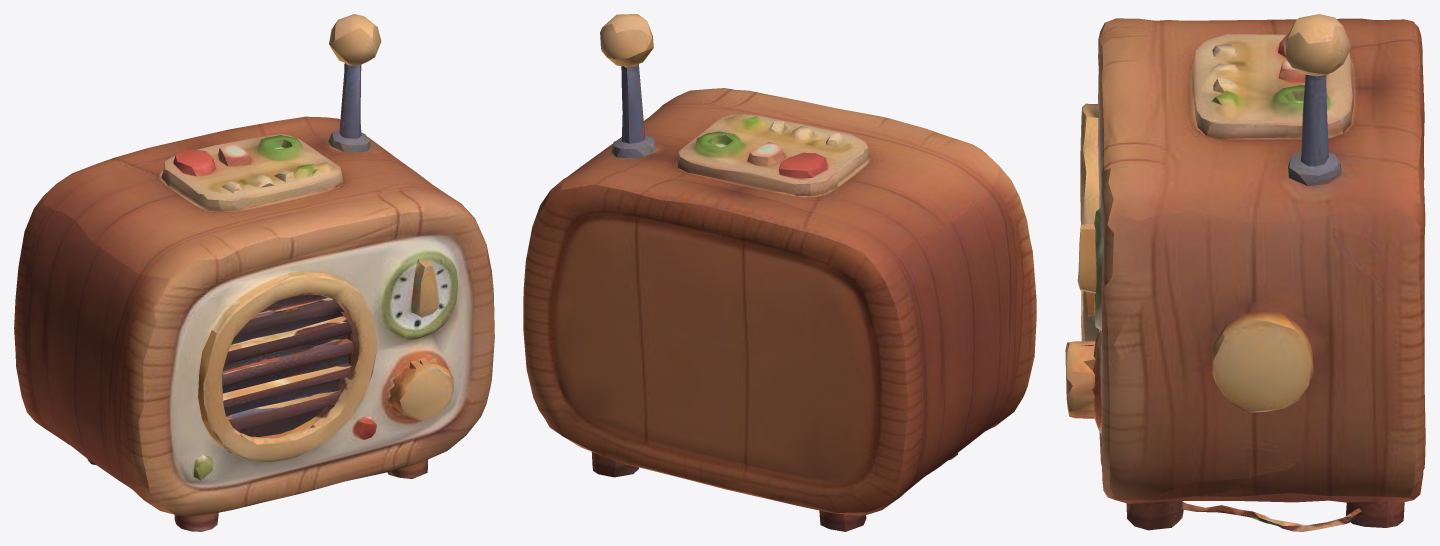
The model's file is radio.glb.
The picture shows the model from 3 angles, left to right: view 1: azimuth 30°, elevation 25°; view 2: azimuth 150°, elevation 25°; view 3: azimuth 270°, elevation 25°; orthographic projection. The views are drawn at different scales.
Visible parts, largest first — view 1: radio_s15; view 2: radio_s15; view 3: radio_s15.
Boxes of the visible parts, x1,y1,x2,y2 form: radio_s15: [14, 14, 494, 531]; radio_s15: [523, 14, 1036, 531]; radio_s15: [1065, 14, 1425, 531].
Bounding box in the file's own units: 1 × 0.989 × 0.6323.
Materials: 1 (1 with a texture image).
